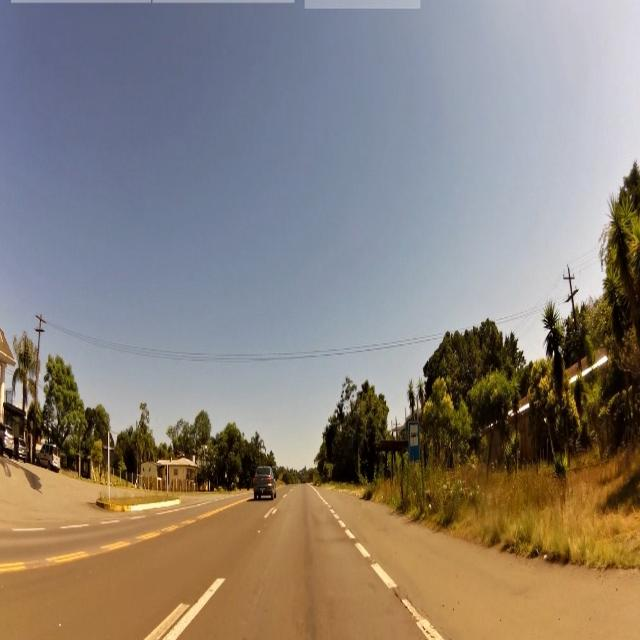S-14: (408, 421, 418, 462)
